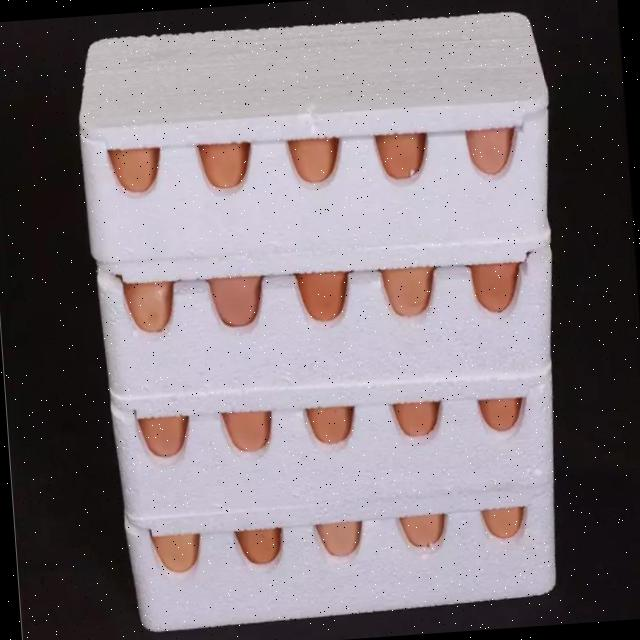styrofoam: (70, 4, 584, 635)
